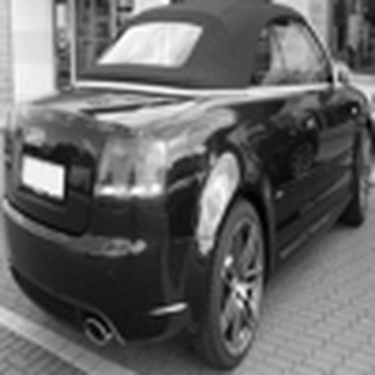car: (4, 4, 369, 371)
